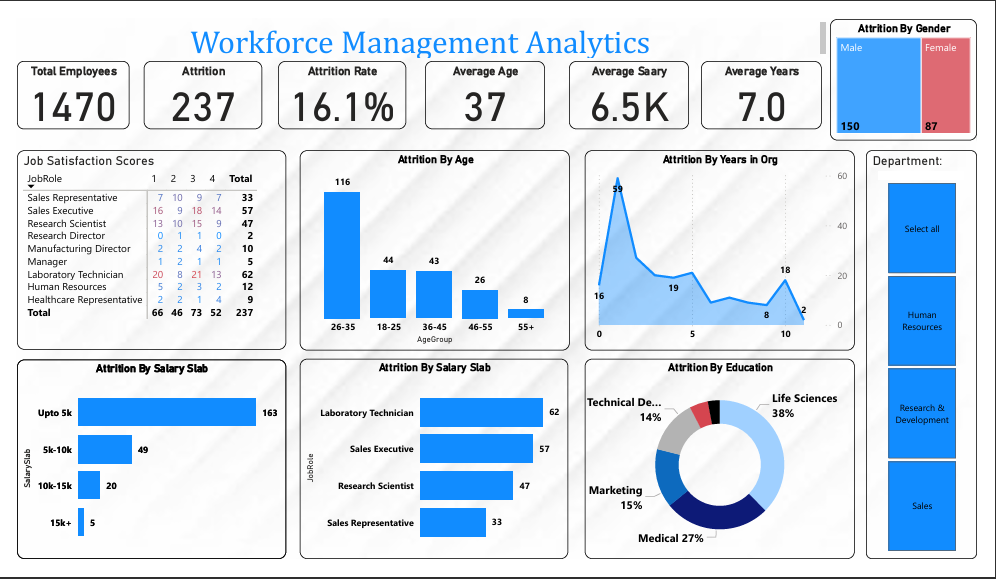

The page's visual inventory and layout, read from the dashboard file:
{"tool":"powerbi","page":{"name":"HR Dashboard","canvas":[1280,720],"ordinal":0},"visuals":[{"type":"card","title":"Total Employees","fields":{"Values":["Count(HR_Analytics.EmpID)"]},"box":[0,56.3,150.4,91.1],"z":0,"group":"g1"},{"type":"card","title":"Attrition","fields":{"Values":["Sum(HR_Analytics.AttritionCount)"]},"box":[169.2,56.3,157.6,91.1],"z":1000,"group":"g1"},{"type":"card","title":"Attrition Rate","fields":{"Values":["HR_Analytics.Attritionrate"]},"box":[348.4,56.3,170.6,91.1],"z":2000,"group":"g1"},{"type":"card","title":"Average Age","fields":{"Values":["Avg(HR_Analytics.Age)"]},"box":[543.6,56.3,160.5,91.1],"z":3000,"group":"g1"},{"type":"card","title":"Average Saary","fields":{"Values":["Avg(HR_Analytics.MonthlyIncome)"]},"box":[735.9,56.3,160.5,91.1],"z":4000,"group":"g1"},{"type":"card","title":"Average Years","fields":{"Values":["Avg(HR_Analytics.YearsAtCompany)"]},"box":[912.3,56.3,160.5,91.1],"z":5000,"group":"g1"},{"type":"donutChart","title":"Attrition By Education","fields":{"Category":["HR_Analytics.EducationField"],"Y":["Sum(HR_Analytics.AttritionCount)"]},"box":[756.7,453.3,360,266.7],"z":6000},{"type":"clusteredColumnChart","title":"Attrition By Age","fields":{"Category":["HR_Analytics.AgeGroup"],"Y":["Sum(HR_Analytics.AttritionCount)"]},"box":[376.7,175,360,266.7],"z":7000},{"type":"pivotTable","title":"Job Satisfaction Scores","fields":{"Rows":["HR_Analytics.JobRole"],"Columns":["HR_Analytics.JobSatisfaction"],"Values":["Sum(HR_Analytics.AttritionCount)"]},"box":[0,174.9,358.6,266],"z":8000},{"type":"barChart","title":"Attrition By Salary Slab","fields":{"Category":["HR_Analytics.SalarySlab"],"Y":["Sum(HR_Analytics.AttritionCount)"]},"box":[0,454.1,359.3,266.4],"z":9000},{"type":"barChart","title":"Attrition By Salary Slab","fields":{"Category":["HR_Analytics.SalarySlab"],"Y":["Sum(HR_Analytics.AttritionCount)"]},"box":[0,453.6,359.3,266.4],"z":10000},{"type":"barChart","title":"Attrition By Salary Slab","fields":{"Y":["Sum(HR_Analytics.AttritionCount)"],"Category":["HR_Analytics.JobRole"]},"box":[376.7,453.3,358.3,266.7],"z":11000},{"type":"areaChart","title":"Attrition By Years in Org","fields":{"Category":["HR_Analytics.YearsAtCompany"],"Y2":["Sum(HR_Analytics.AttritionCount)"]},"box":[756.7,175,360,266.7],"z":12000},{"type":"treemap","title":"Attrition By Gender","fields":{"Group":["HR_Analytics.Gender"],"Values":["Sum(HR_Analytics.AttritionCount)"]},"box":[1084.3,0,195.2,161.9],"z":13000},{"type":"slicer","title":"Department:","fields":{"Values":["HR_Analytics.Department"]},"box":[1131.7,175,148.3,545],"z":14000},{"type":"textbox","box":[0,0,1084.3,56.4],"z":15000},{"type":"group","id":"g1","title":"Group 1","box":[0,56.3,1072.8,91.1],"z":15001}]}

Visuals, with their boxes in screenshot pixels (x1, y1, x2, y2):
"Total Employees" card: 23,62,134,130
"Attrition" card: 148,62,265,130
"Attrition Rate" card: 281,62,407,130
"Average Age" card: 426,62,544,130
"Average Saary" card: 568,62,687,130
"Average Years" card: 699,62,817,130
"Attrition By Education" donutChart: 583,356,850,554
"Attrition By Age" clusteredColumnChart: 302,150,569,348
"Job Satisfaction Scores" pivotTable: 23,150,289,347
"Attrition By Salary Slab" barChart: 23,357,289,554
"Attrition By Salary Slab" barChart: 23,357,289,554
"Attrition By Salary Slab" barChart: 302,356,567,554
"Attrition By Years in Org" areaChart: 583,150,850,348
"Attrition By Gender" treemap: 826,21,970,141
"Department:" slicer: 861,150,971,554
textbox: 23,21,826,62
"Group 1" group: 23,62,817,130
